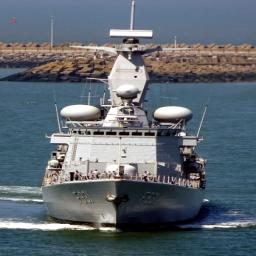Fragata: (40, 20, 210, 231)
